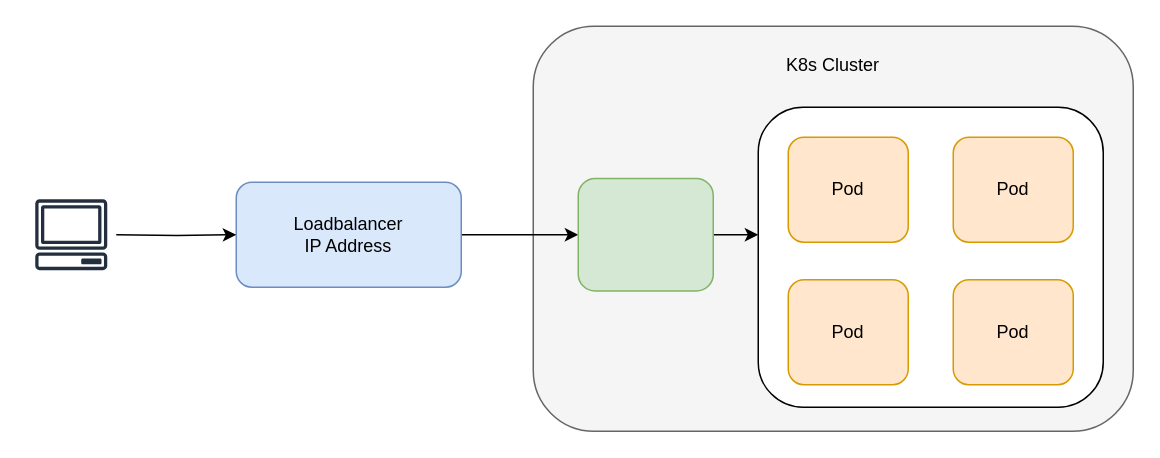
Image size: 1160x458. Some labels were removed from this diagram. Each missing label, with the centre of its shape:
"Client" belongs at pixel 70 234.
"Service" belongs at pixel 645 234.
